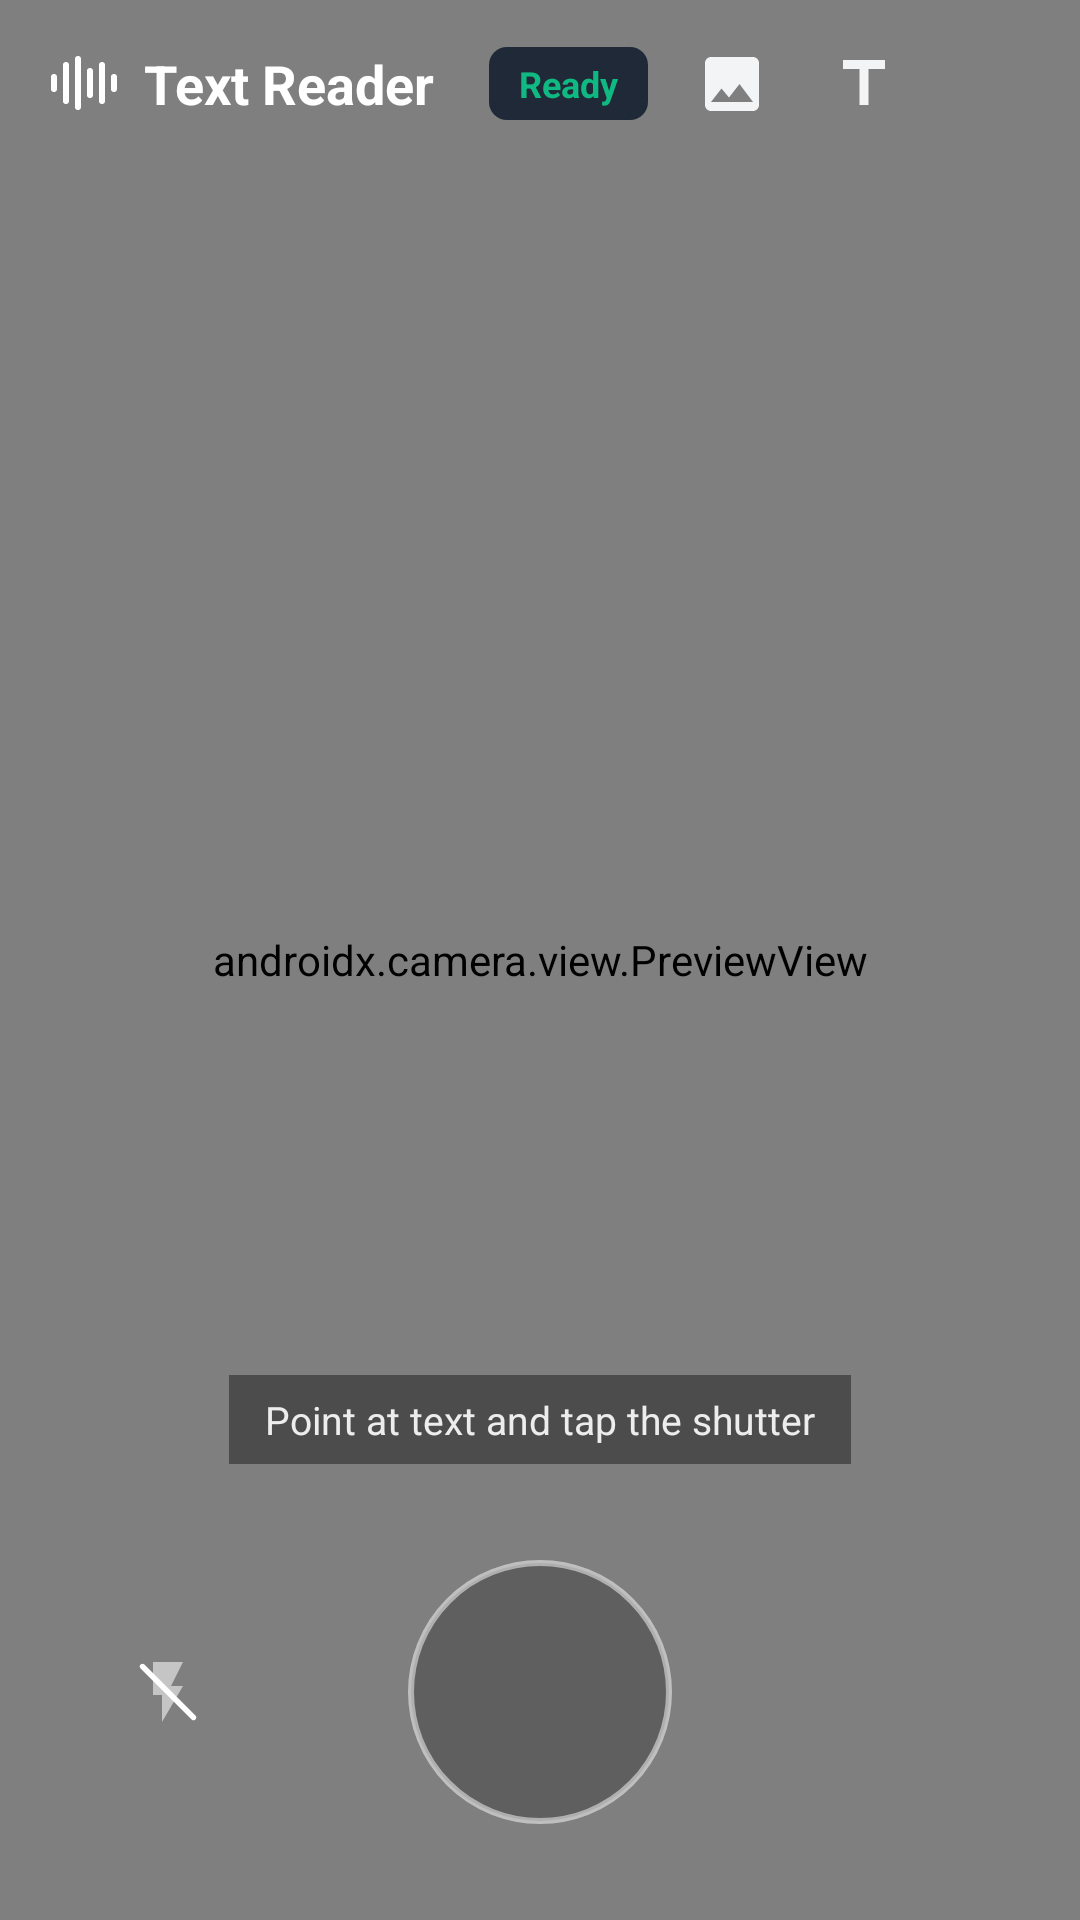

Where icons sit on this 1080×1920 app screen, as (x1, y1, x2, y2):
Import from gallery: (705, 57, 759, 111)
Toggle flash: (139, 1662, 197, 1721)
